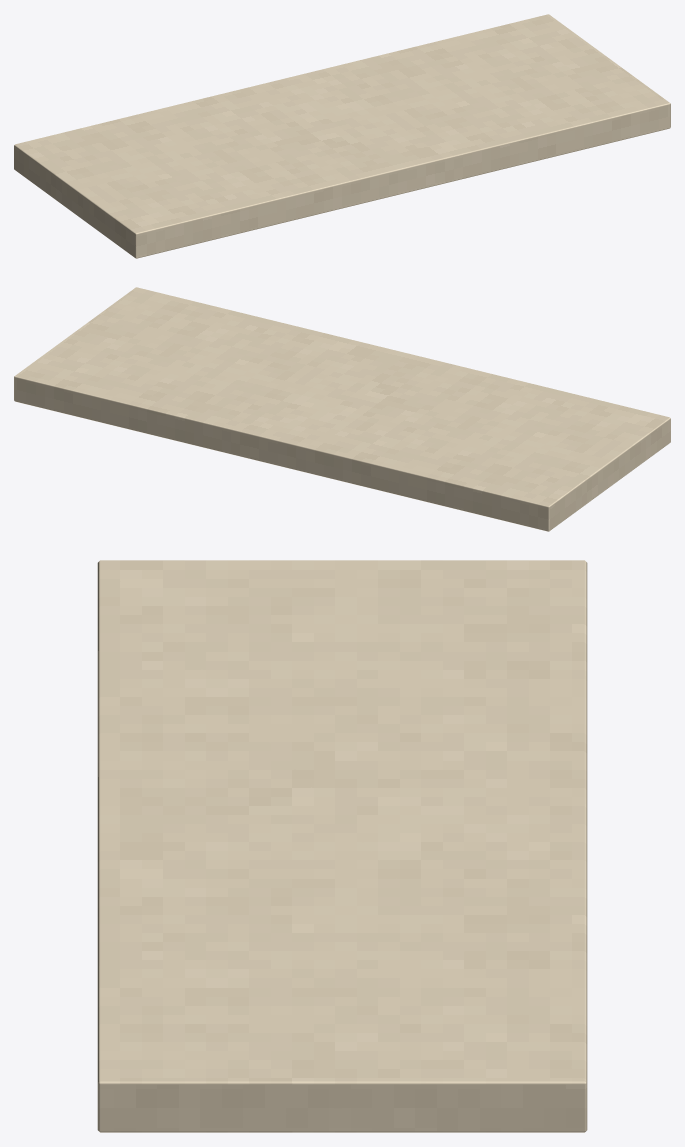
File: Top.glb
The picture shows the model from 3 angles, top to bottom: view 1: azimuth 30°, elevation 25°; view 2: azimuth 150°, elevation 25°; view 3: azimuth 270°, elevation 25°; orthographic projection. The views are drawn at different scales.
Parts seen in each view (by area): view 1: Top; view 2: Top; view 3: Top.
Part boxes in pixels (x1,y1,x2,y2): Top: [14, 14, 670, 258]; Top: [14, 287, 670, 531]; Top: [97, 560, 587, 1132].
Size of the model in its own units: 2.25 by 0.104 by 0.89.
1 material, 1 textured.
